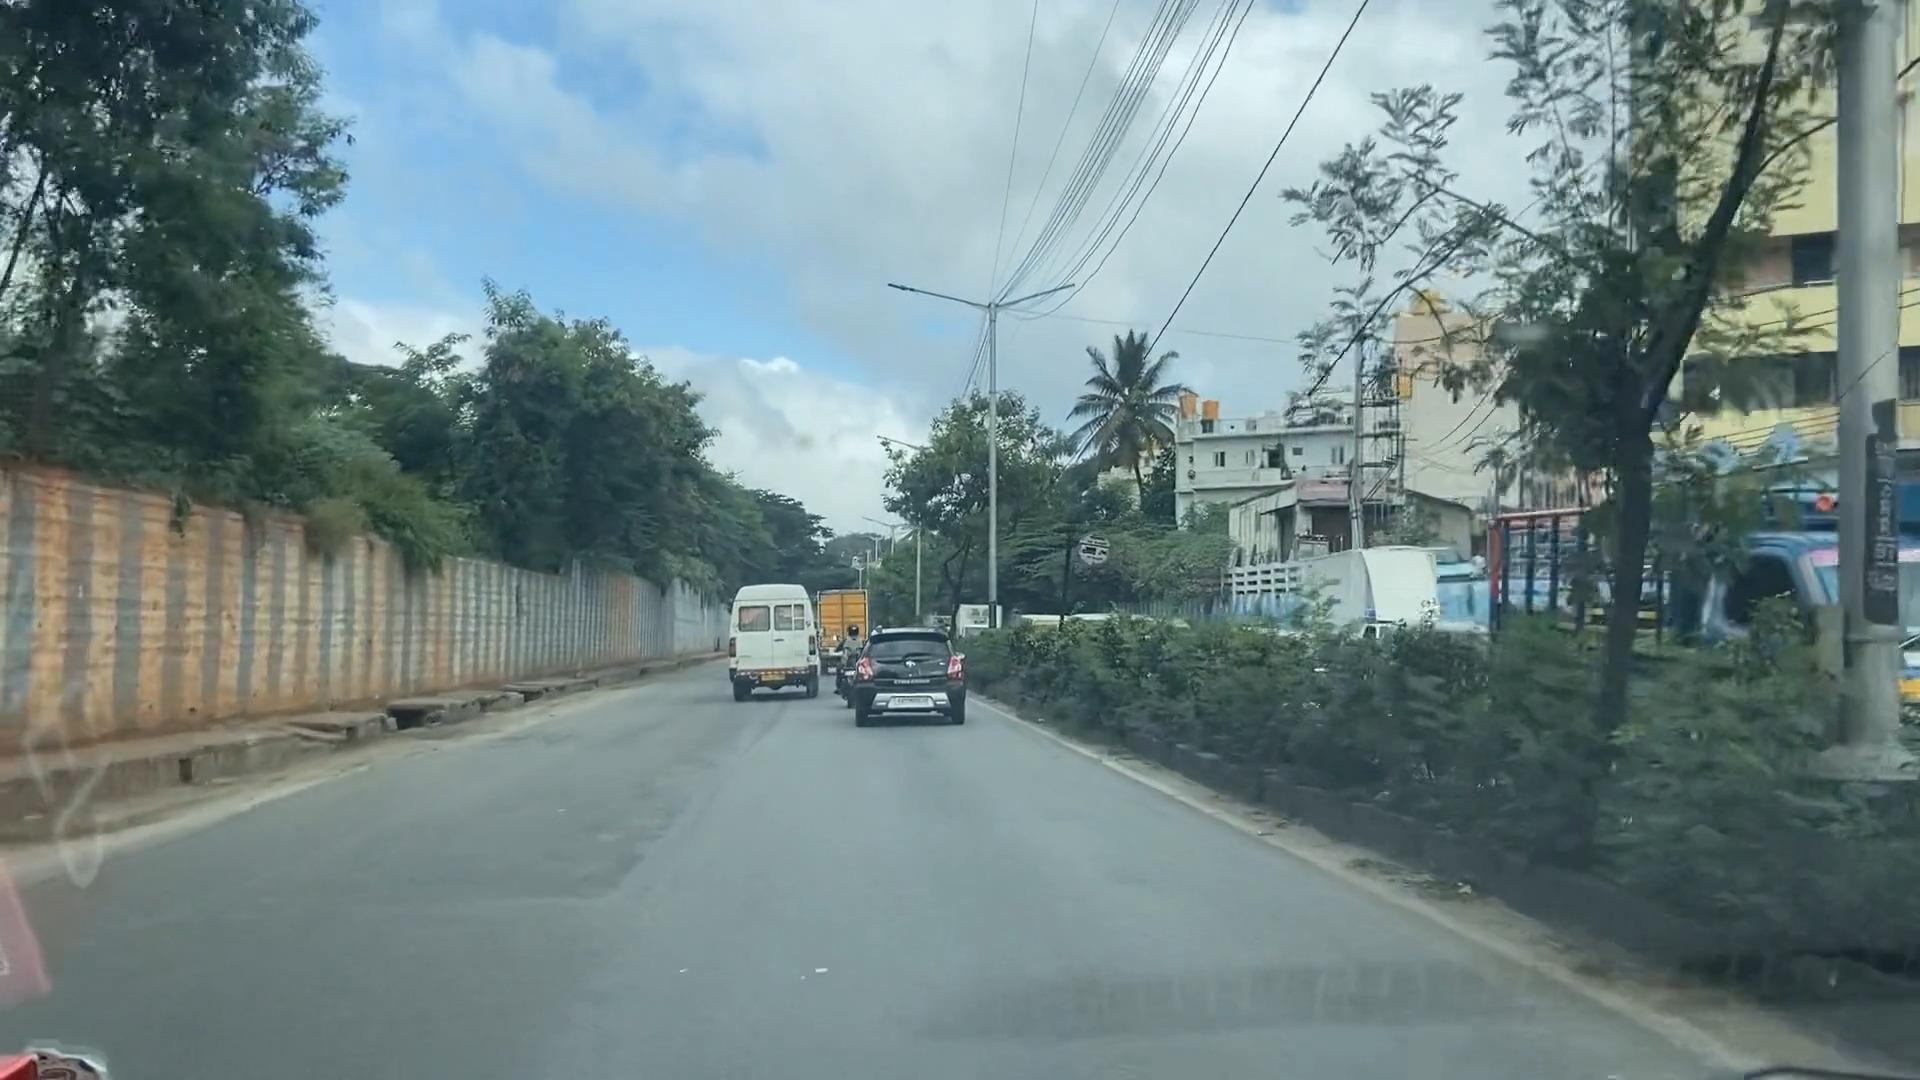HMV: (736, 585, 816, 705)
LMV: (857, 632, 964, 727), (831, 621, 869, 715)
